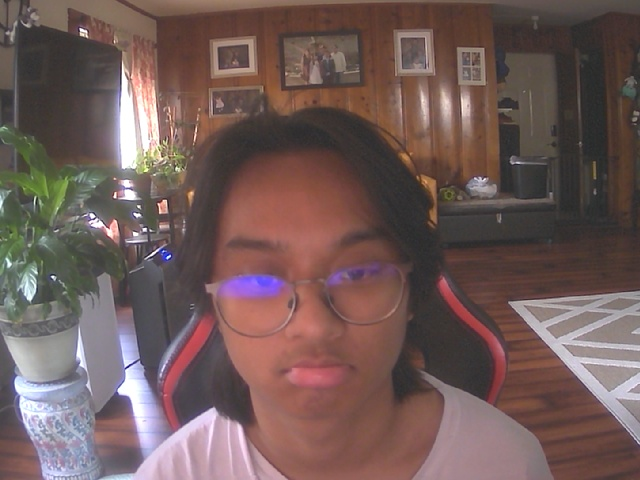sad: (205, 137, 424, 430)
